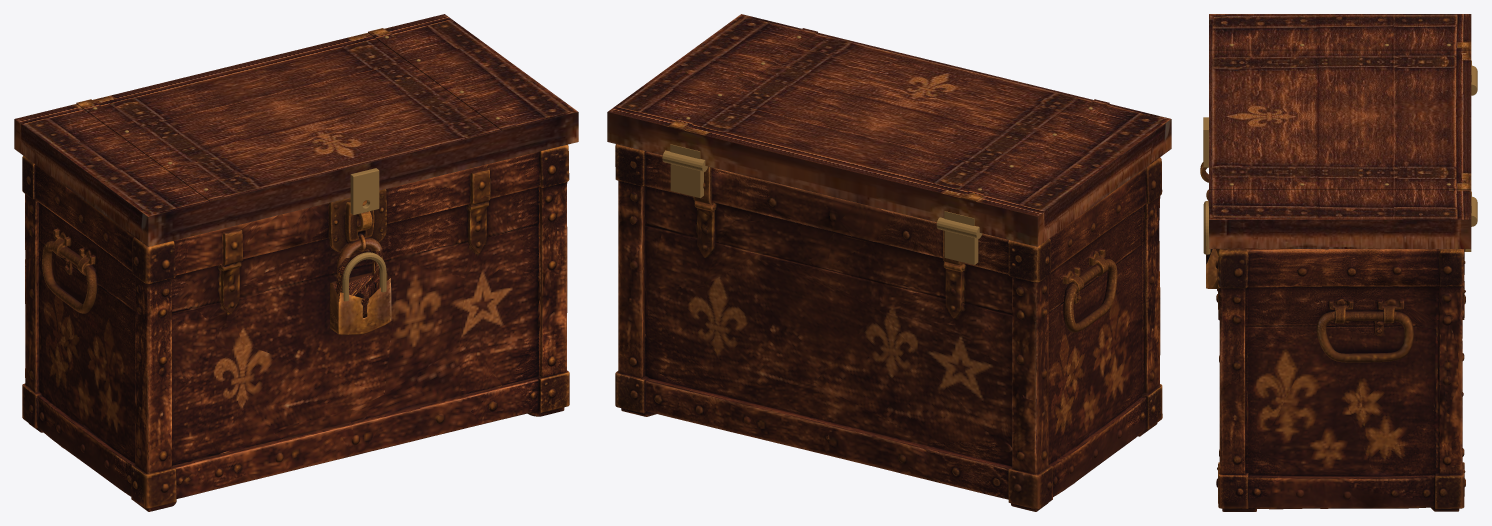
Rendered from zora-trunk.glb.
The picture shows the model from 3 angles, left to right: view 1: azimuth 30°, elevation 25°; view 2: azimuth 150°, elevation 25°; view 3: azimuth 270°, elevation 25°; orthographic projection. The views are drawn at different scales.
Visible parts, largest first — view 1: Trunk_Body, Trunk_Lid, Trunk_Padlock, Lid_Reinforcement, Lid_Reinforcement.001, Trunk_Lid_Hasp, Trunk_Shackle; view 2: Trunk_Body, Trunk_Lid, Lid_Reinforcement, Lid_Reinforcement.001, Rear_Hinge_Body_Plate, Rear_Hinge_Body_Plate.001; view 3: Trunk_Body, Trunk_Lid, Lid_Reinforcement, Lid_Reinforcement.001, Trunk_Padlock, Trunk_Shackle.
Part boxes in pixels (x1,y1,x2,y2): Trunk_Body: (22,144,569,511); Trunk_Lid: (14,14,578,246); Trunk_Padlock: (330,275,391,334); Lid_Reinforcement: (76,99,224,201); Lid_Reinforcement.001: (368,28,516,130); Trunk_Lid_Hasp: (350,168,379,214); Trunk_Shackle: (342,252,386,301); Trunk_Body: (615,144,1162,511); Trunk_Lid: (607,14,1171,246); Lid_Reinforcement: (961,99,1109,201); Lid_Reinforcement.001: (669,28,817,130); Rear_Hinge_Body_Plate: (944,231,978,264); Rear_Hinge_Body_Plate.001: (670,164,703,198); Trunk_Body: (1200,162,1465,511); Trunk_Lid: (1209,14,1471,248); Lid_Reinforcement: (1209,42,1471,50); Lid_Reinforcement.001: (1209,182,1471,189); Trunk_Padlock: (1206,246,1218,288); Trunk_Shackle: (1203,201,1210,254).
Size of the model in its own units: 1.76 by 1.17 by 0.983.
Materials: 3 (2 with a texture image).
